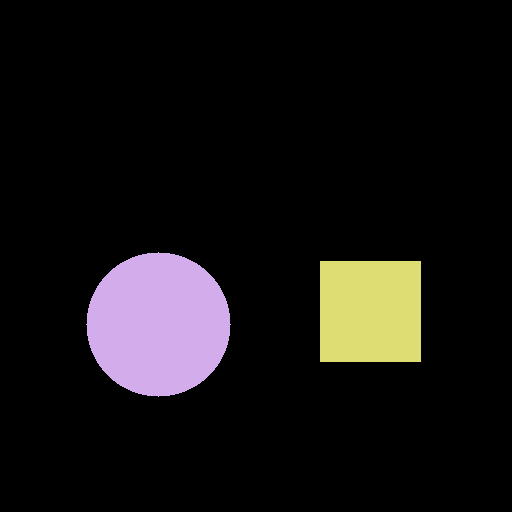circle: (86, 252, 230, 396)
square: (320, 261, 420, 361)
